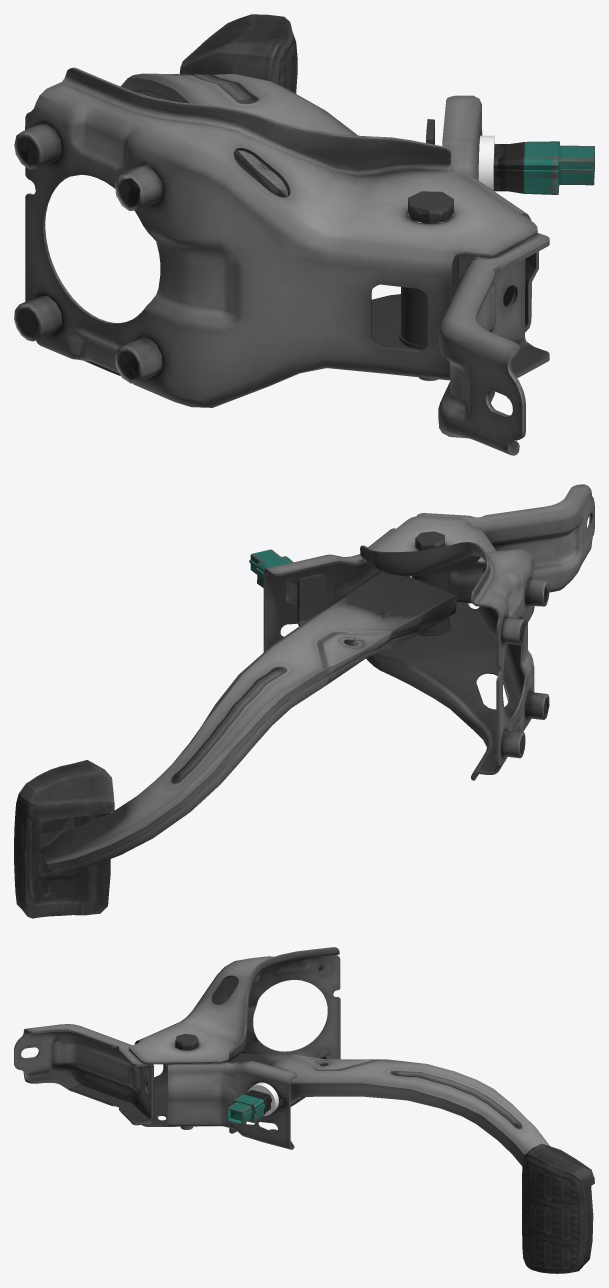
The model's file is BrakePedal.obj.
3 renders of one model, top to bottom at view 1: azimuth 30°, elevation 25°; view 2: azimuth 150°, elevation 25°; view 3: azimuth 270°, elevation 25°, orthographic. The views are drawn at different scales.
Parts seen in each view (by area): view 1: BrakePedal; view 2: BrakePedal; view 3: BrakePedal.
Part boxes in pixels (x1,y1,x2,y2): BrakePedal: (14,14,594,455); BrakePedal: (14,484,594,918); BrakePedal: (14,947,594,1273).
Bounding box in the file's own units: 0.2512 × 0.2056 × 0.4838.
